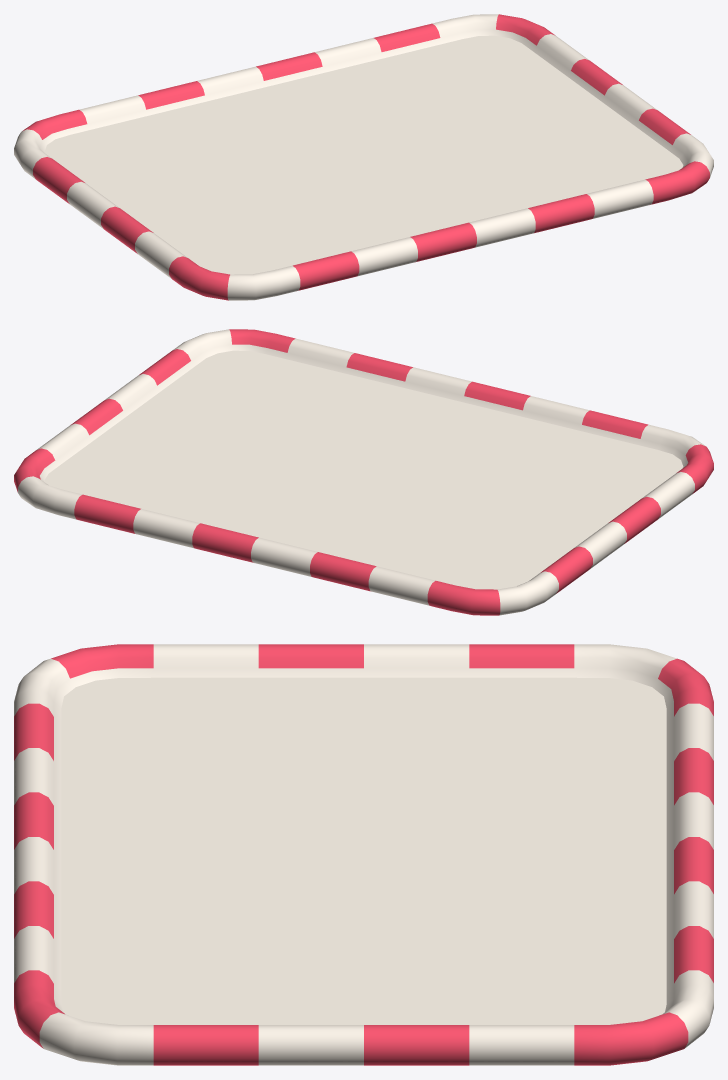
The model's file is platform.glb.
The picture shows the model from 3 angles, top to bottom: view 1: azimuth 30°, elevation 25°; view 2: azimuth 150°, elevation 25°; view 3: azimuth 270°, elevation 25°; orthographic projection. The views are drawn at different scales.
Parts seen in each view (by area): view 1: platform; view 2: platform; view 3: platform.
Boxes of the visible parts, x1=… form: platform: x1=14, y1=14, x2=713, y2=300; platform: x1=14, y1=329, x2=713, y2=615; platform: x1=14, y1=644, x2=713, y2=1065.
Size of the model in its own units: 54.72 by 7.26 by 40.72.
